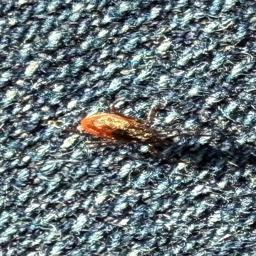Ixodes scapularis: (68, 107, 163, 152)
